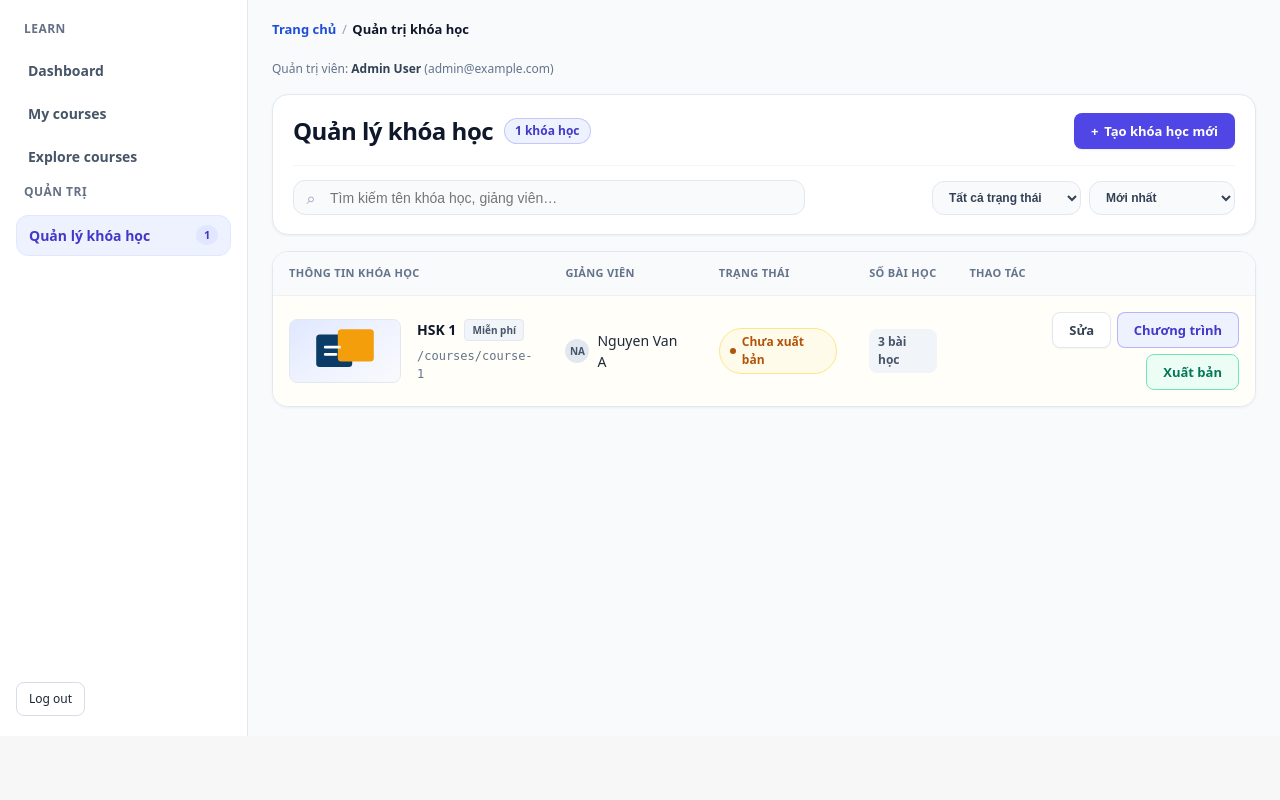
Test: AdminCourseListPage › publishes a course and refreshes the list
The width and height of the screenshot is (1280, 800).
Expected: the link "HSK 1" is shown, [417,321,456,340]
Click the button "Xuất bản" at (1193, 372), box [1146,354,1239,390]
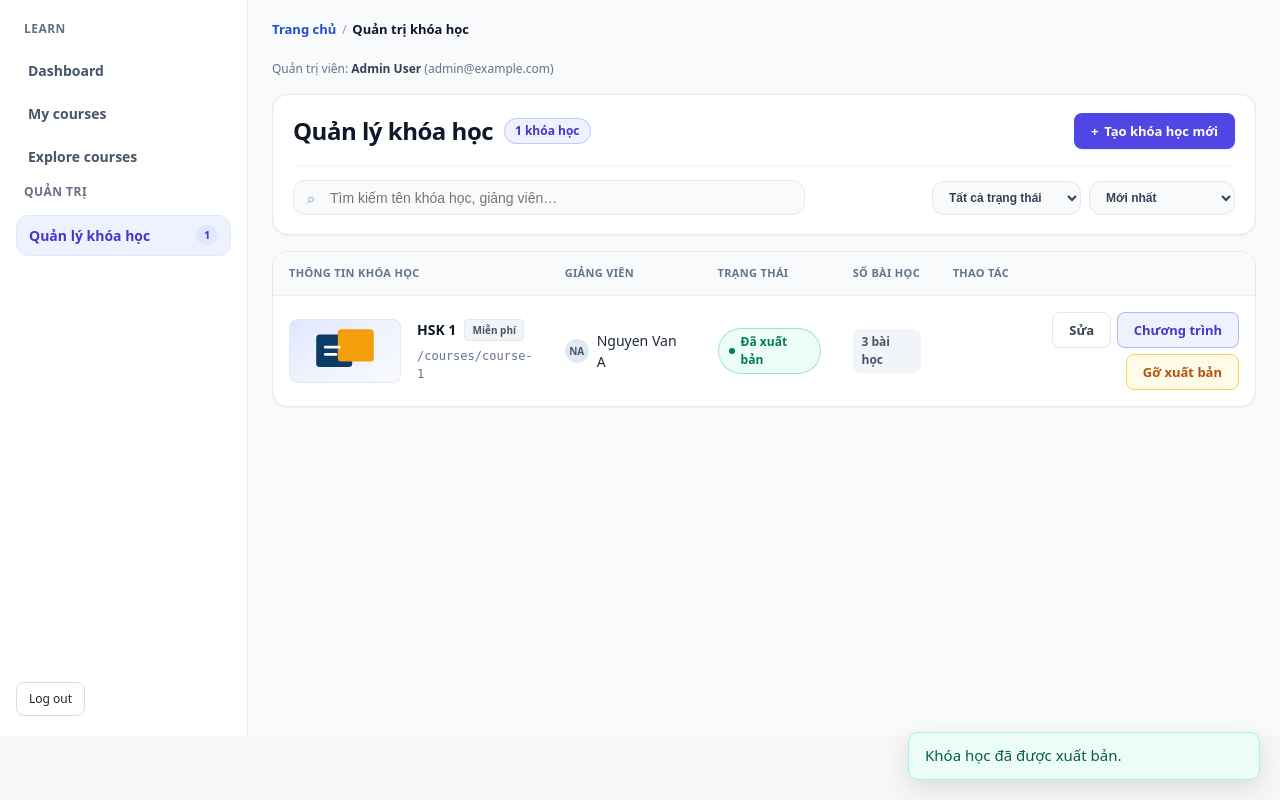
Expected: the message reads "Khóa học đã được xuất bản.", [925,745,1122,765]
